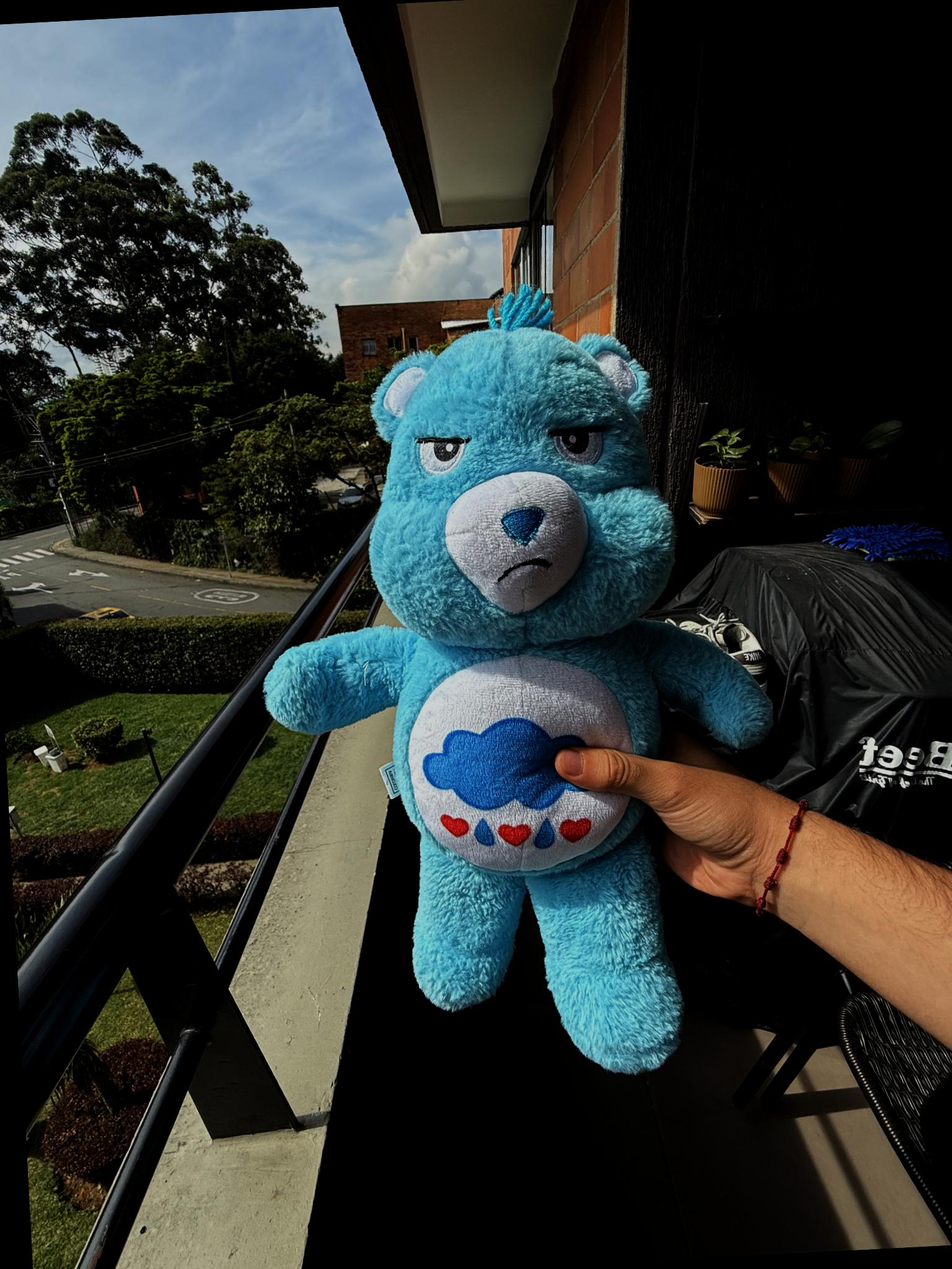peluche_Juan Jose: (243, 277, 796, 1092)
